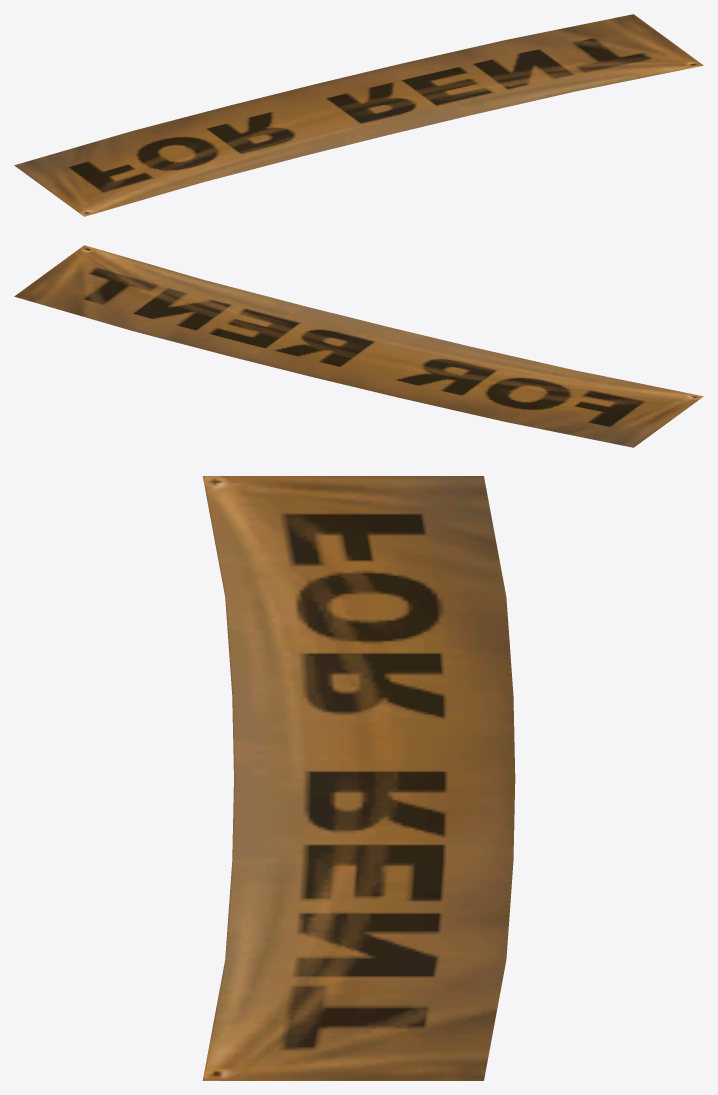
Rendered from banner.fbx.
3 views of the same model, one above another, from view 1: azimuth 30°, elevation 25°; view 2: azimuth 150°, elevation 25°; view 3: azimuth 270°, elevation 25° (orthographic). The views are drawn at different scales.
Visible parts, largest first — view 1: mesh_0; view 2: mesh_0; view 3: mesh_0.
Boxes of the visible parts, <box> form: mesh_0: <box>14,14,703,216</box>; mesh_0: <box>14,245,703,447</box>; mesh_0: <box>202,476,515,1080</box>.
Bounding box in the file's own units: 400 × 0 × 87.36.
Materials: 1 (1 with a texture image).
